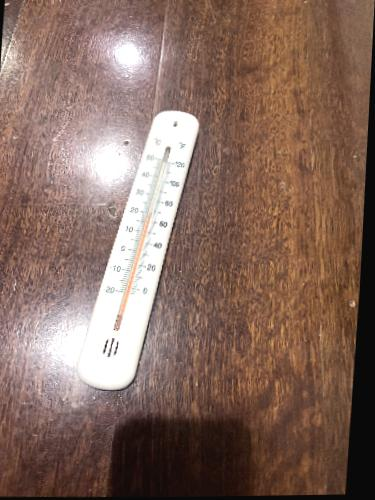thermo: (69, 103, 215, 399)
